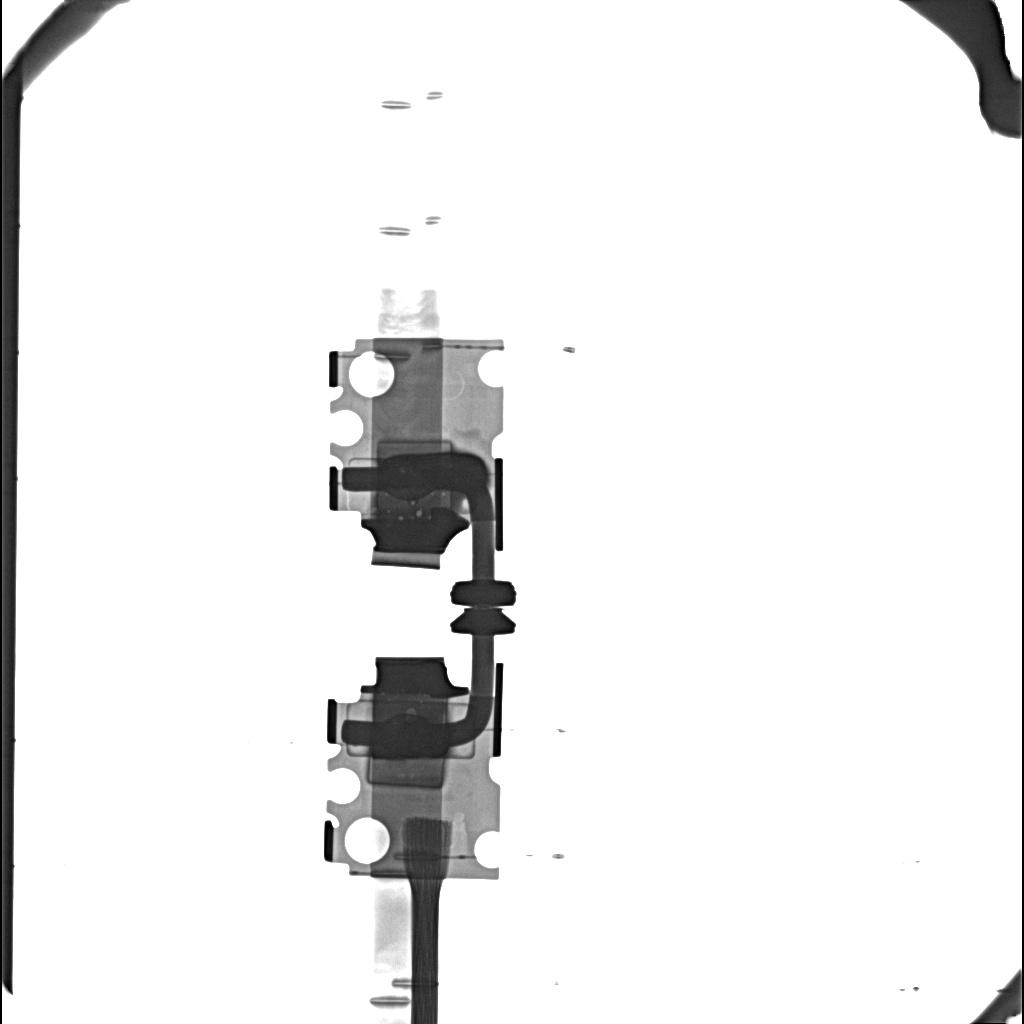defect: (383, 453, 486, 489), (372, 714, 450, 760), (367, 758, 446, 789), (378, 440, 452, 457), (416, 510, 422, 517)
